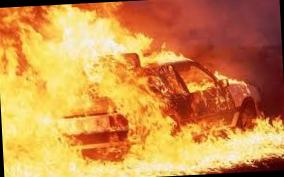Fire: (0, 0, 192, 149), (1, 103, 284, 177)
